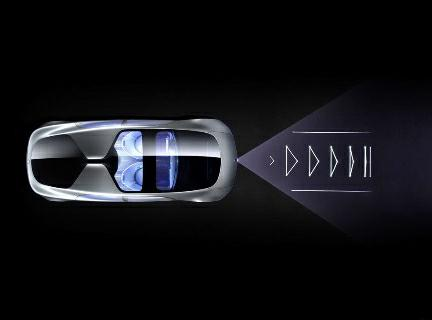奔驰-F015: (21, 106, 243, 210)
